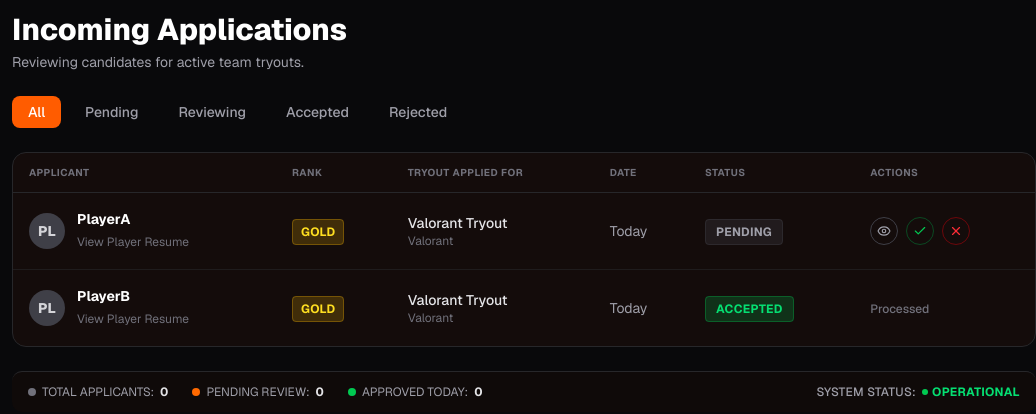
ApplicationsTable › 4: shows only ACCEPTED rows when Accepted filter is active
What coordinates should you click on to do the following:
click the button "Accepted"
I would click on:
 (318, 112)
Its box is [270,96,365,128].
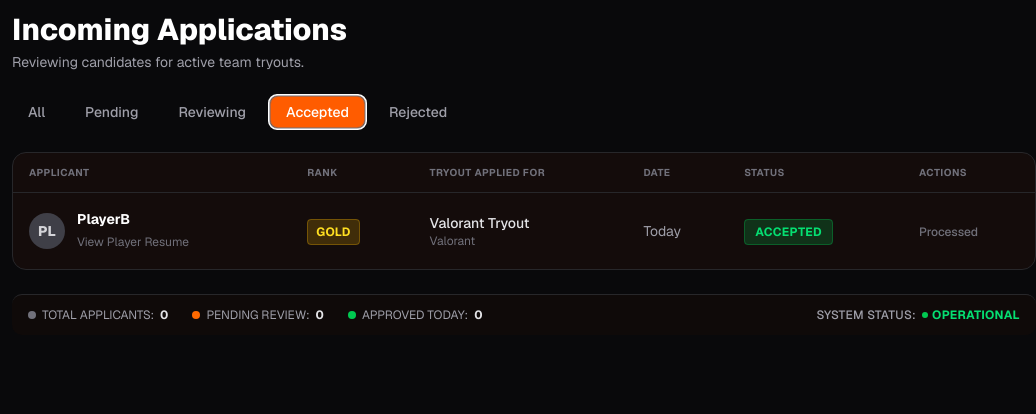
Check: the text "PlayerB" is shown, box [77,210,130,228]
Check: the text "PlayerA" is gone
